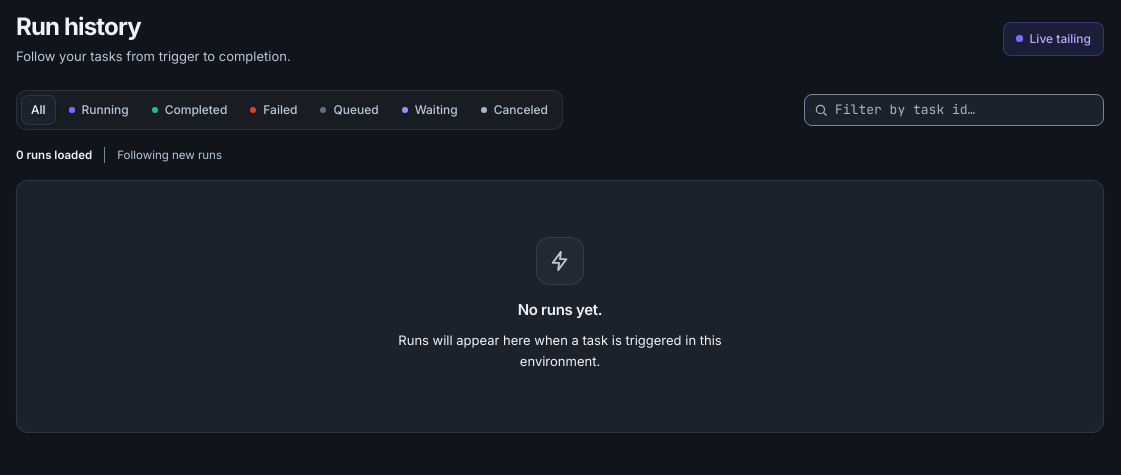
Test: RunsList empty states › keeps a cleared query paused until the user resumes
Check: the heading "No runs yet." is shown, box x1=518 y1=301 x2=602 y2=318
Click the button "Waiting".
click(430, 110)  # box x1=392 y1=95 x2=468 y2=125
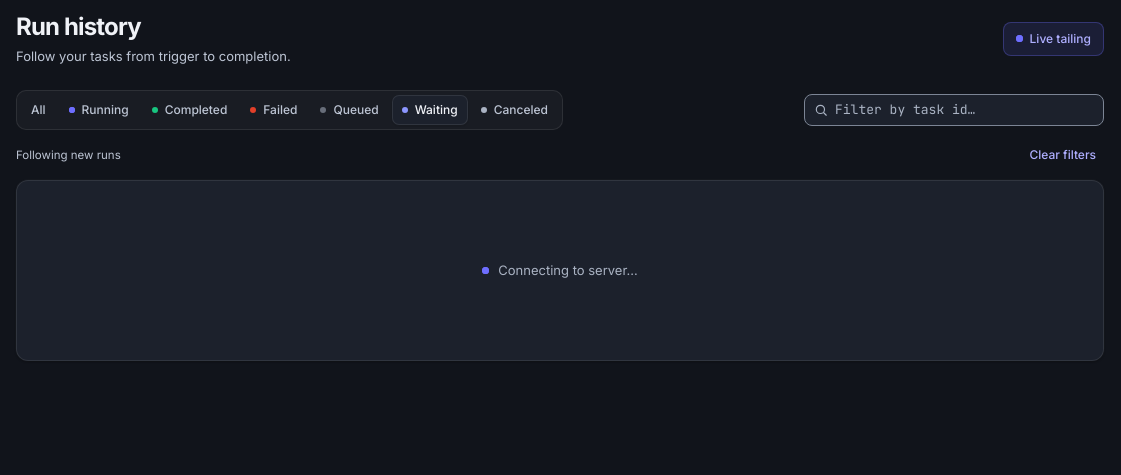
Type "task-z" into the field labelled "Filter by task id".
click(954, 110); type("task-z")  # box x1=804 y1=94 x2=1104 y2=126
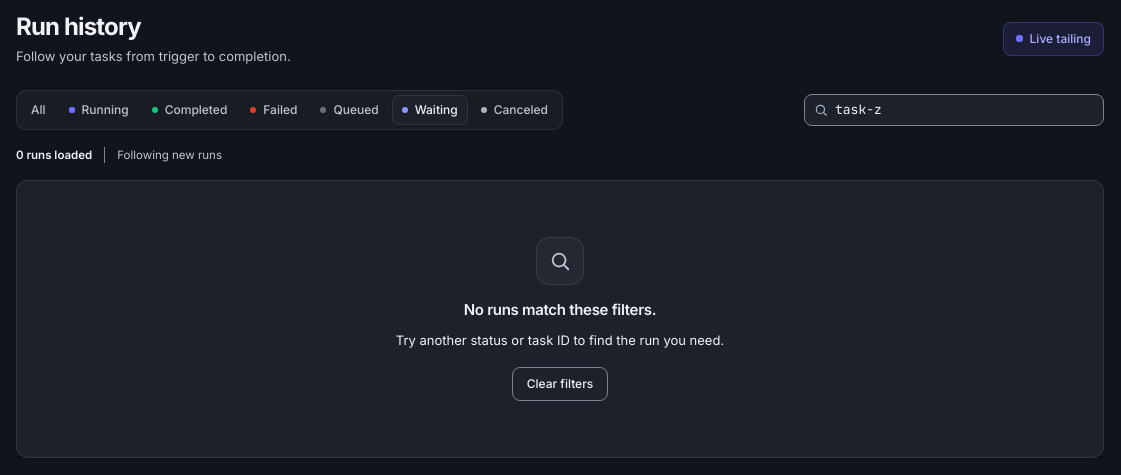
Check: the heading "No runs match these filters." is shown, box x1=464 y1=301 x2=656 y2=318
Click the button "Live tailing".
click(1053, 39)  # box x1=1003 y1=22 x2=1104 y2=56
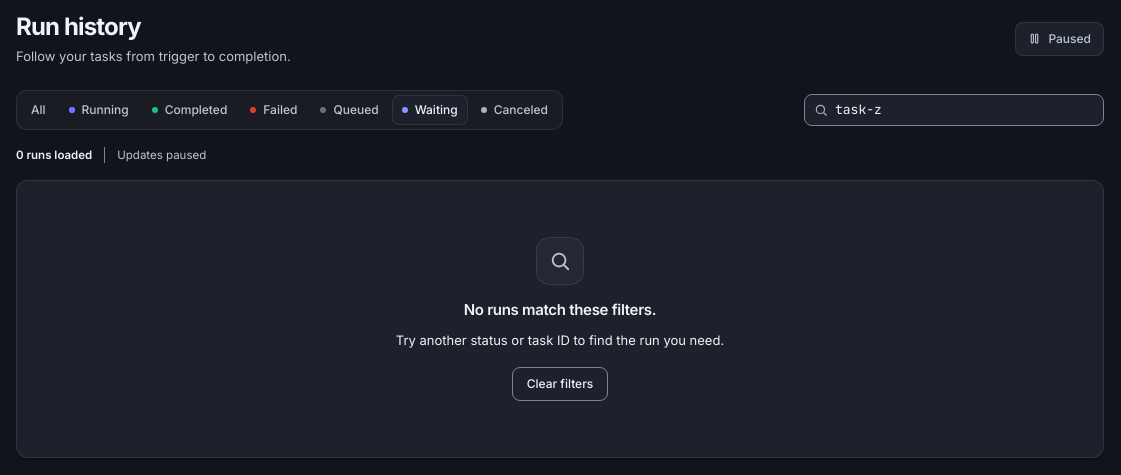
Click the button "Clear filters".
click(560, 384)  # box x1=512 y1=367 x2=608 y2=401
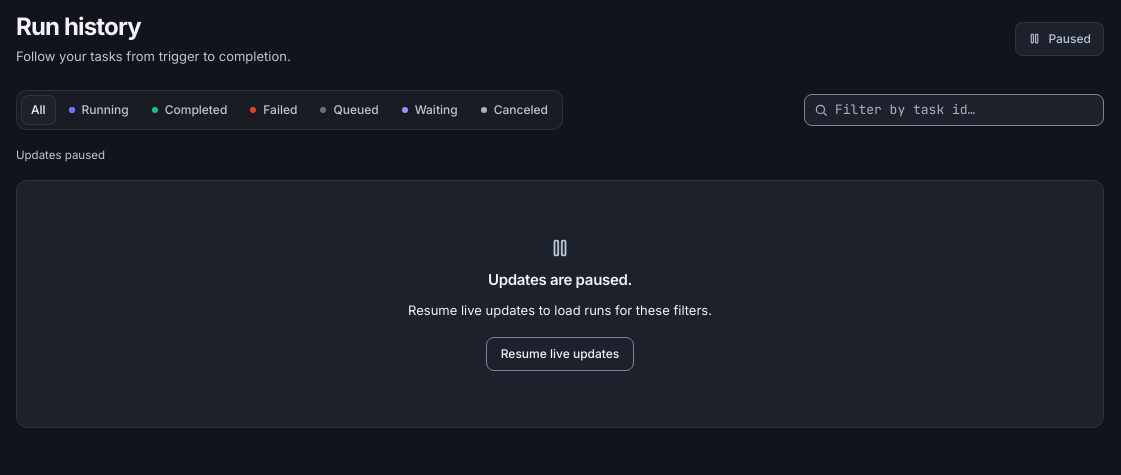
Check: the heading "Updates are paused." is shown, box x1=488 y1=271 x2=632 y2=288
Click the button "Resume live updates".
click(560, 354)  # box x1=486 y1=337 x2=634 y2=371
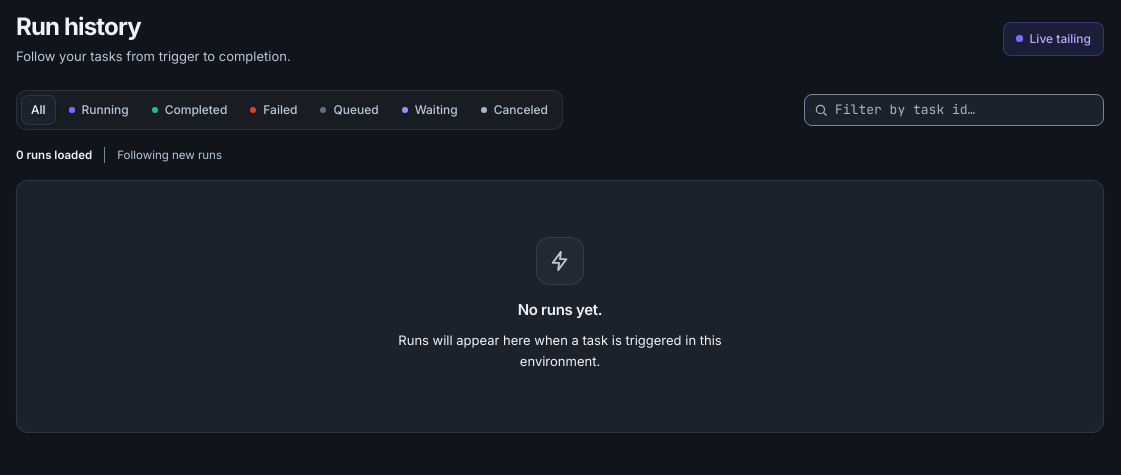
Check: the heading "No runs yet." is shown, box x1=518 y1=301 x2=602 y2=318
